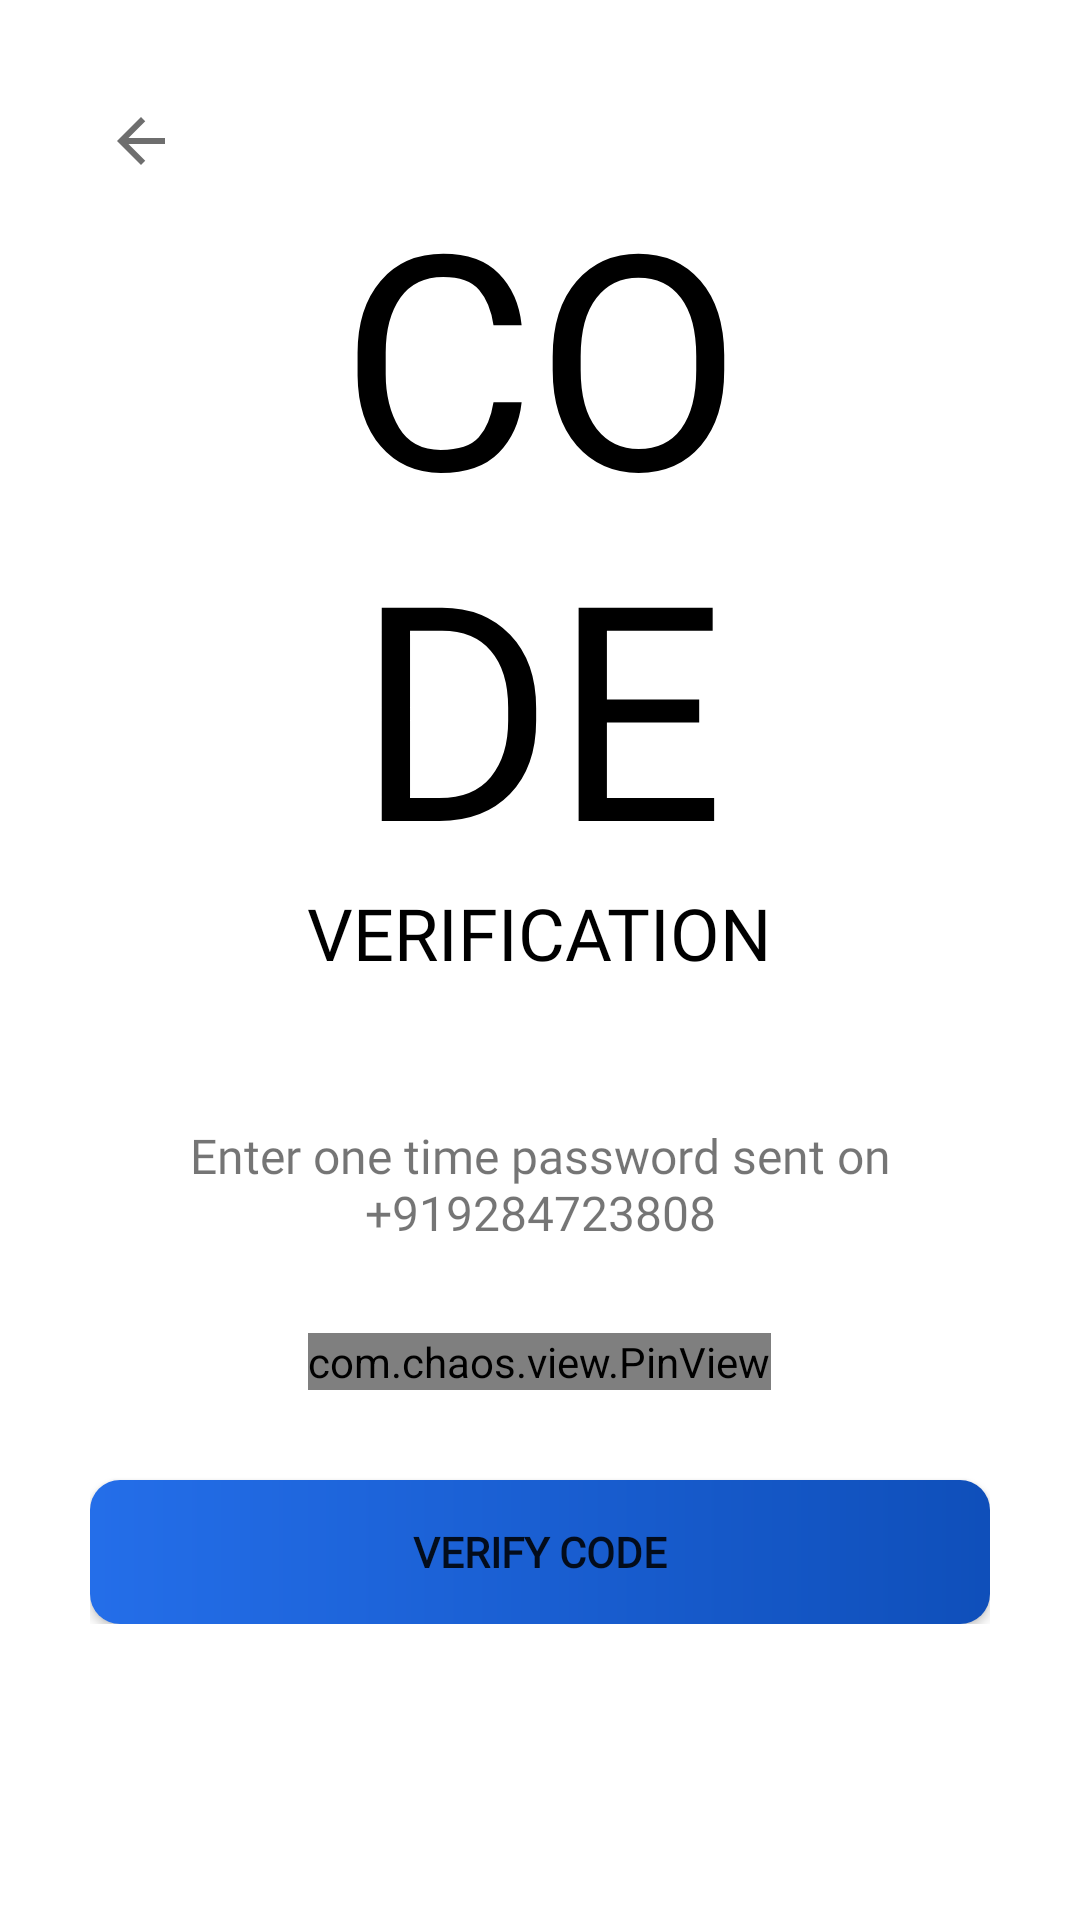

Icon bounding boxes for this 1080*1920 phone screenshot, format (x1, y1, x2, y2):
arrow back: (117, 117, 165, 165)
